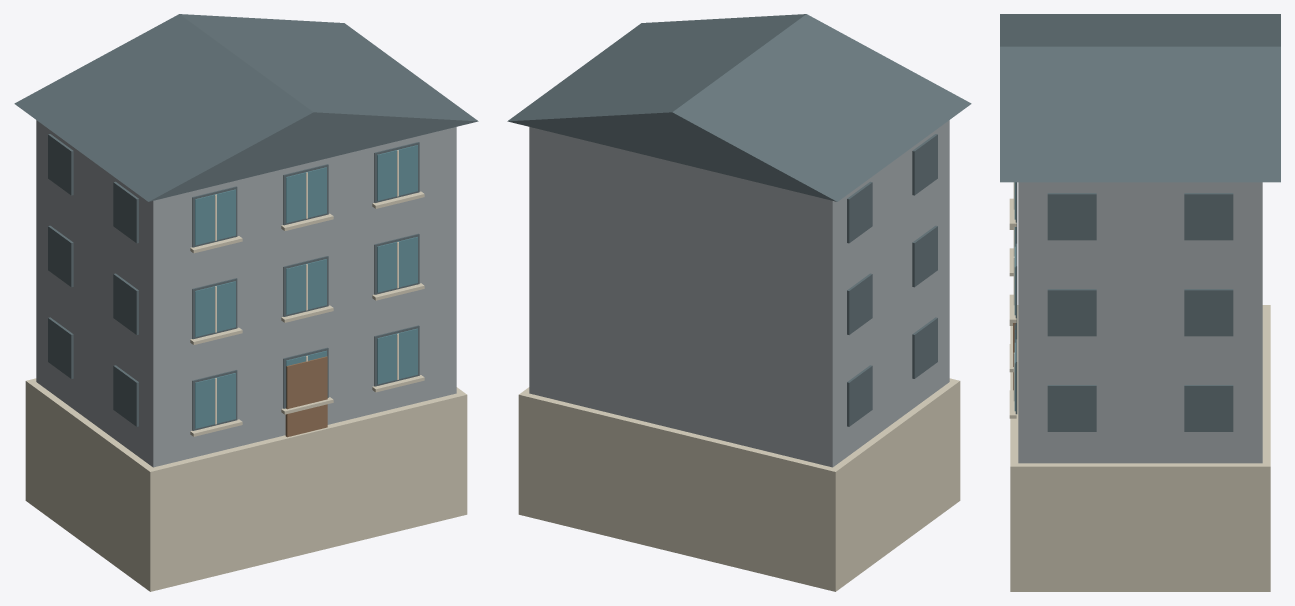
File: warehouse-2.glb
The picture shows the model from 3 angles, left to right: view 1: azimuth 30°, elevation 25°; view 2: azimuth 150°, elevation 25°; view 3: azimuth 270°, elevation 25°; orthographic projection. The views are drawn at different scales.
Size of the model in its own units: 9.8 by 12.6 by 6.9.
